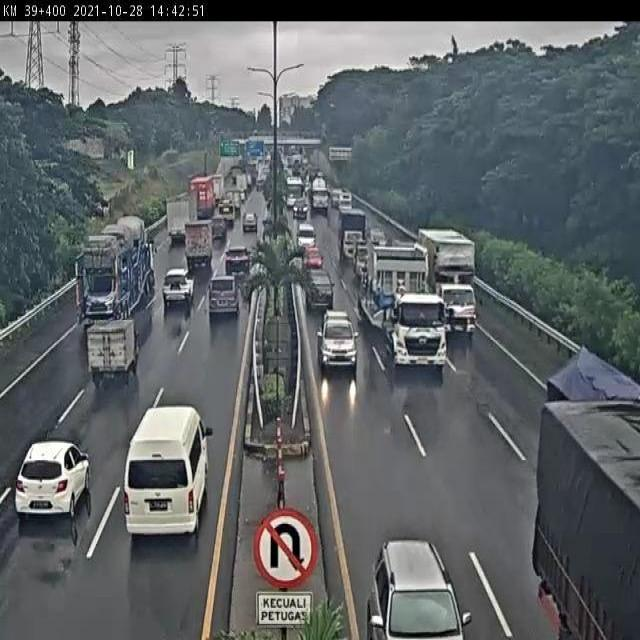big truck: (83, 215, 159, 321)
car: (15, 441, 88, 515), (318, 309, 359, 371), (303, 266, 336, 314), (208, 272, 238, 315), (161, 266, 192, 302), (223, 242, 251, 270), (301, 245, 323, 272)
small bus: (125, 408, 210, 532)
small truck: (85, 319, 143, 385)
truck-l-: (415, 224, 476, 333)
truck-m-: (336, 208, 369, 264), (185, 219, 214, 265)
truck-xl-: (359, 235, 446, 366)
